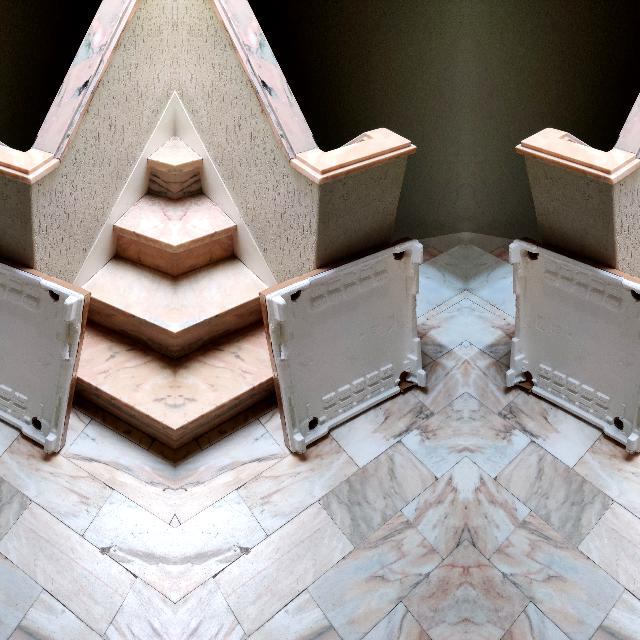Plastic: (252, 235, 458, 461), (473, 235, 640, 461), (0, 235, 95, 461)
